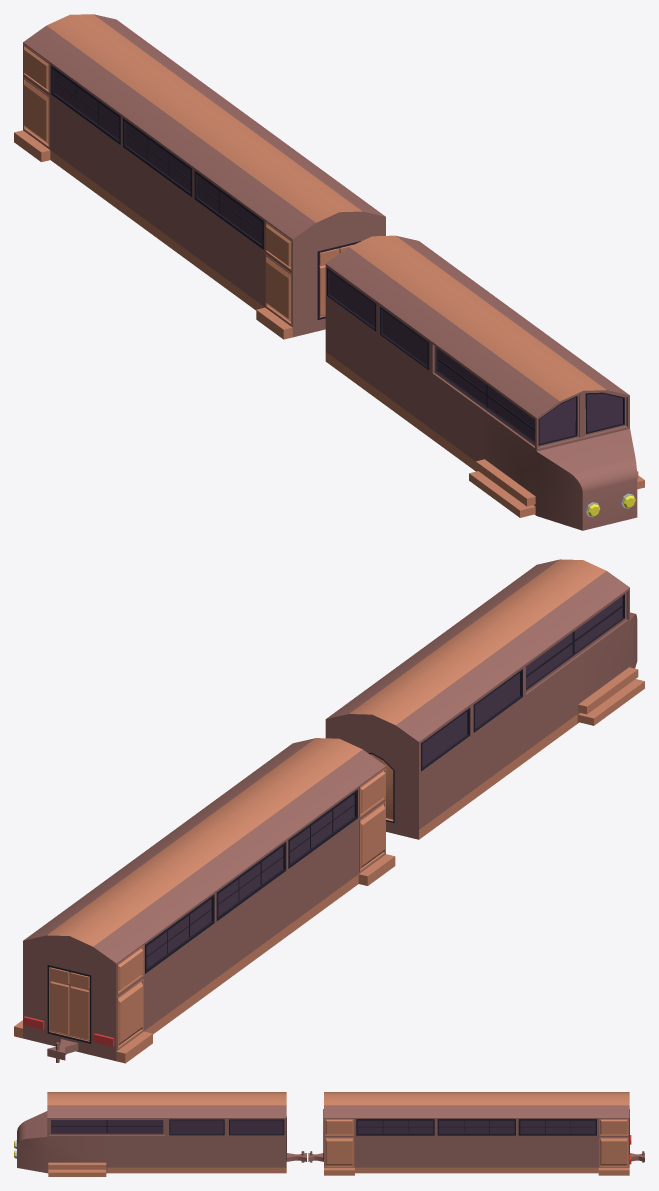
Rendered from train.fbx.
3 renders of one model, top to bottom at view 1: azimuth 30°, elevation 25°; view 2: azimuth 150°, elevation 25°; view 3: azimuth 270°, elevation 25°, orthographic. The views are drawn at different scales.
Visible parts, largest first — view 1: train-car, train-engine (cars are children); view 2: train-car, train-engine (cars are children); view 3: train-car, train-engine (cars are children).
Part boxes in pixels (x1=…): train-car: x1=14, y1=14, x2=385, y2=339; train-engine (cars are children): x1=325, y1=235, x2=644, y2=530; train-car: x1=14, y1=738, x2=395, y2=1063; train-engine (cars are children): x1=325, y1=559, x2=644, y2=839; train-car: x1=308, y1=1092, x2=644, y2=1175; train-engine (cars are children): x1=14, y1=1092, x2=306, y2=1176.
Size of the model in its own units: 3.9 by 3.5 by 30.09.
